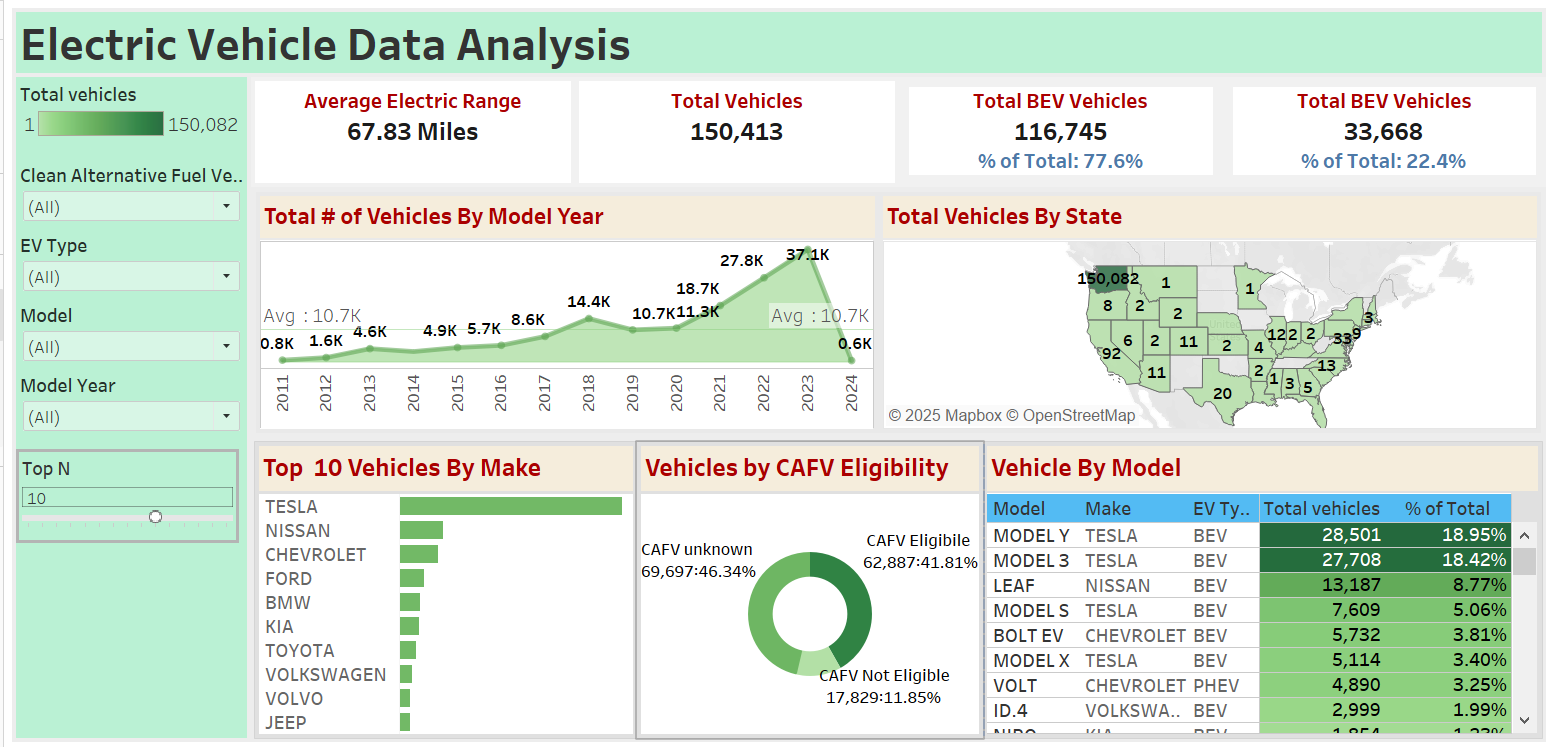

The page's visual inventory and layout, read from the dashboard file:
{"tool":"tableau","page":{"name":"Dashboard 1","canvas":[1550,750],"ordinal":0},"visuals":[{"type":"title","box":[8,8,1534,69]},{"type":"legend","title":"Total Vehicles By State","param":"[federated.1qas1qr0n8kdpo15wywrs17cep8m].[usr:Calculation_540713466058706944:qk]","box":[12,77,231,81]},{"type":"worksheet","title":"Avg Electric Range","mark":"Automatic","box":[247,77,324,110]},{"type":"worksheet","title":"Total Vehicles","mark":"Automatic","box":[571,77,324,110]},{"type":"worksheet","title":"Total BEV Vehicles","mark":"Automatic","box":[895,77,324,110]},{"type":"worksheet","title":"Total PHEV Vehicles ","mark":"Automatic","box":[1219,77,323,110]},{"type":"filter","title":"Total # of Vehicles By Model Year","param":"[federated.1qas1qr0n8kdpo15wywrs17cep8m].[none:Clean Alternative Fuel Vehicle (C","box":[12,158,231,70]},{"type":"worksheet","title":"Total # of Vehicles By Model Year","mark":"Area","rows":["Calculation_540713466058706944","Calculation_540713466058706944"],"cols":["Model Year"],"box":[252,192,622.7,241]},{"type":"worksheet","title":"Total Vehicles By State","mark":"Multipolygon","box":[874.7,192,662.3,241]},{"type":"filter","title":"Total # of Vehicles By Model Year","param":"[federated.1qas1qr0n8kdpo15wywrs17cep8m].[none:Electric Vehicle Type:nk]","box":[12,228,231,70]},{"type":"filter","title":"Total # of Vehicles By Model Year","param":"[federated.1qas1qr0n8kdpo15wywrs17cep8m].[none:Model:nk]","box":[12,298,231,70]},{"type":"filter","title":"Total # of Vehicles By Model Year","param":"[federated.1qas1qr0n8kdpo15wywrs17cep8m].[none:Model Year:ok]","box":[12,368,231,70]},{"type":"worksheet","title":"Top 10 Vehicles By Make","mark":"Automatic","rows":["Make"],"cols":["Calculation_540713466058706944"],"box":[251,442,381.6,296]},{"type":"worksheet","title":"Vehicles by CAFV Eligibility","mark":"Pie","rows":["Calculation_540713466247172103","Calculation_540713466247172103"],"box":[632.6,442,346.4,296]},{"type":"worksheet","title":"Vehicle By Model","mark":"Square","rows":["Model","Make","Electric Vehicle Type"],"box":[979,442,559,296]},{"type":"parameter","param":"[Parameters].[Parameter 1]","box":[12,449,223,94]}]}

Visuals, with their boxes in screenshot pixels (x1, y1, x2, y2), scaled from the page's 1550x750 canvas onto the 1551x747 screenshot:
title: BBox(8, 8, 1543, 77)
"Total Vehicles By State" legend: BBox(12, 77, 243, 157)
"Avg Electric Range" worksheet: BBox(247, 77, 571, 186)
"Total Vehicles" worksheet: BBox(571, 77, 896, 186)
"Total BEV Vehicles" worksheet: BBox(896, 77, 1220, 186)
"Total PHEV Vehicles " worksheet: BBox(1220, 77, 1543, 186)
"Total # of Vehicles By Model Year" filter: BBox(12, 157, 243, 227)
"Total # of Vehicles By Model Year" worksheet (Area marks): BBox(252, 191, 875, 431)
"Total Vehicles By State" worksheet (Multipolygon marks): BBox(875, 191, 1538, 431)
"Total # of Vehicles By Model Year" filter: BBox(12, 227, 243, 297)
"Total # of Vehicles By Model Year" filter: BBox(12, 297, 243, 367)
"Total # of Vehicles By Model Year" filter: BBox(12, 367, 243, 436)
"Top 10 Vehicles By Make" worksheet: BBox(251, 440, 633, 735)
"Vehicles by CAFV Eligibility" worksheet (Pie marks): BBox(633, 440, 980, 735)
"Vehicle By Model" worksheet (Square marks): BBox(980, 440, 1539, 735)
parameter: BBox(12, 447, 235, 541)
